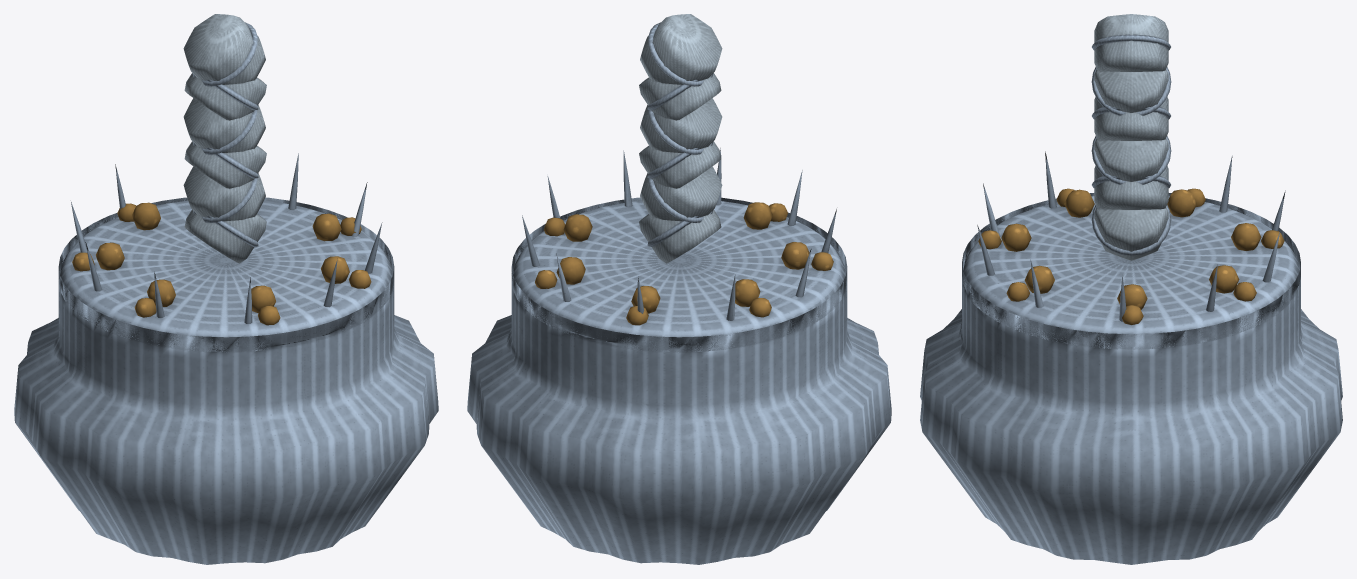
Rendered from landmark_b1_diatom_chain.glb.
The picture shows the model from 3 angles, left to right: view 1: azimuth 30°, elevation 25°; view 2: azimuth 150°, elevation 25°; view 3: azimuth 270°, elevation 25°; orthographic projection.
Visible parts, largest first — view 1: LandmarkB1DiatomChain, Growth_Beads, Growth_Needles; view 2: LandmarkB1DiatomChain, Growth_Beads, Growth_Needles; view 3: LandmarkB1DiatomChain, Growth_Beads, Growth_Needles.
Boxes of the visible parts, bbox=[...] form: LandmarkB1DiatomChain: bbox=[14, 14, 438, 564]; Growth_Beads: bbox=[72, 202, 371, 325]; Growth_Needles: bbox=[71, 153, 382, 323]; LandmarkB1DiatomChain: bbox=[467, 14, 891, 564]; Growth_Beads: bbox=[535, 202, 833, 325]; Growth_Needles: bbox=[522, 148, 836, 320]; LandmarkB1DiatomChain: bbox=[920, 14, 1342, 564]; Growth_Beads: bbox=[978, 188, 1284, 324]; Growth_Needles: bbox=[977, 151, 1285, 321].
Bounding box in the file's own units: 5.12 × 6.58 × 4.99.
3 materials, 3 textured.
